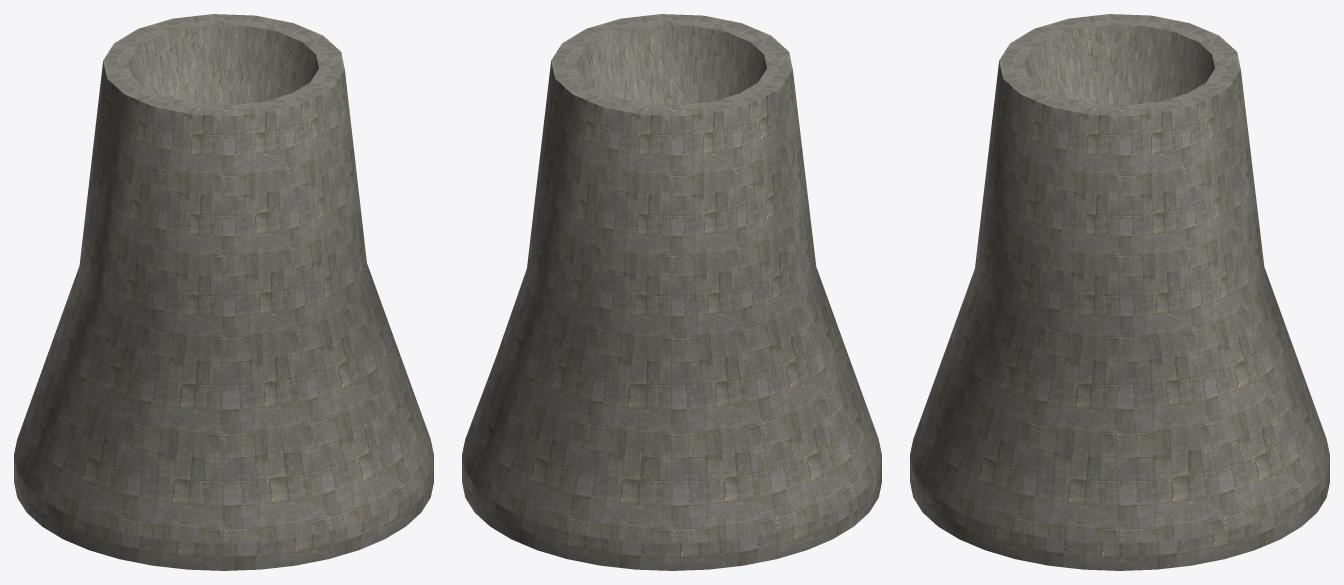
The model's file is Building_FdcYc1_lod2.glb.
3 views of the same model, side by side, from view 1: azimuth 30°, elevation 25°; view 2: azimuth 150°, elevation 25°; view 3: azimuth 270°, elevation 25° (orthographic).
Visible parts, largest first — view 1: xiutz_fdc_yc1_lod2; view 2: xiutz_fdc_yc1_lod2; view 3: xiutz_fdc_yc1_lod2.
Boxes of the visible parts, x1,y1,x2,y2 form: xiutz_fdc_yc1_lod2: [14, 14, 433, 570]; xiutz_fdc_yc1_lod2: [462, 14, 881, 570]; xiutz_fdc_yc1_lod2: [910, 14, 1329, 570].
Size of the model in its own units: 44.96 by 49.29 by 44.96.
1 material, 1 textured.
